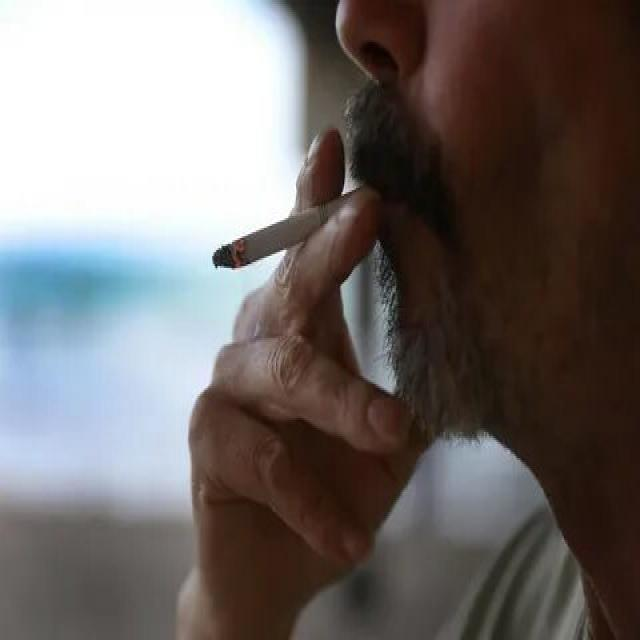smoke: (209, 182, 375, 276)
